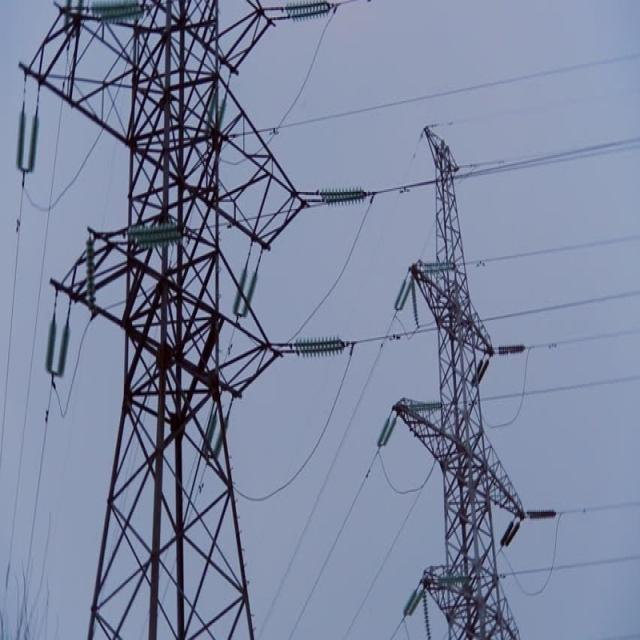non-critical vegetation: (21, 3, 364, 630), (374, 110, 538, 630)
